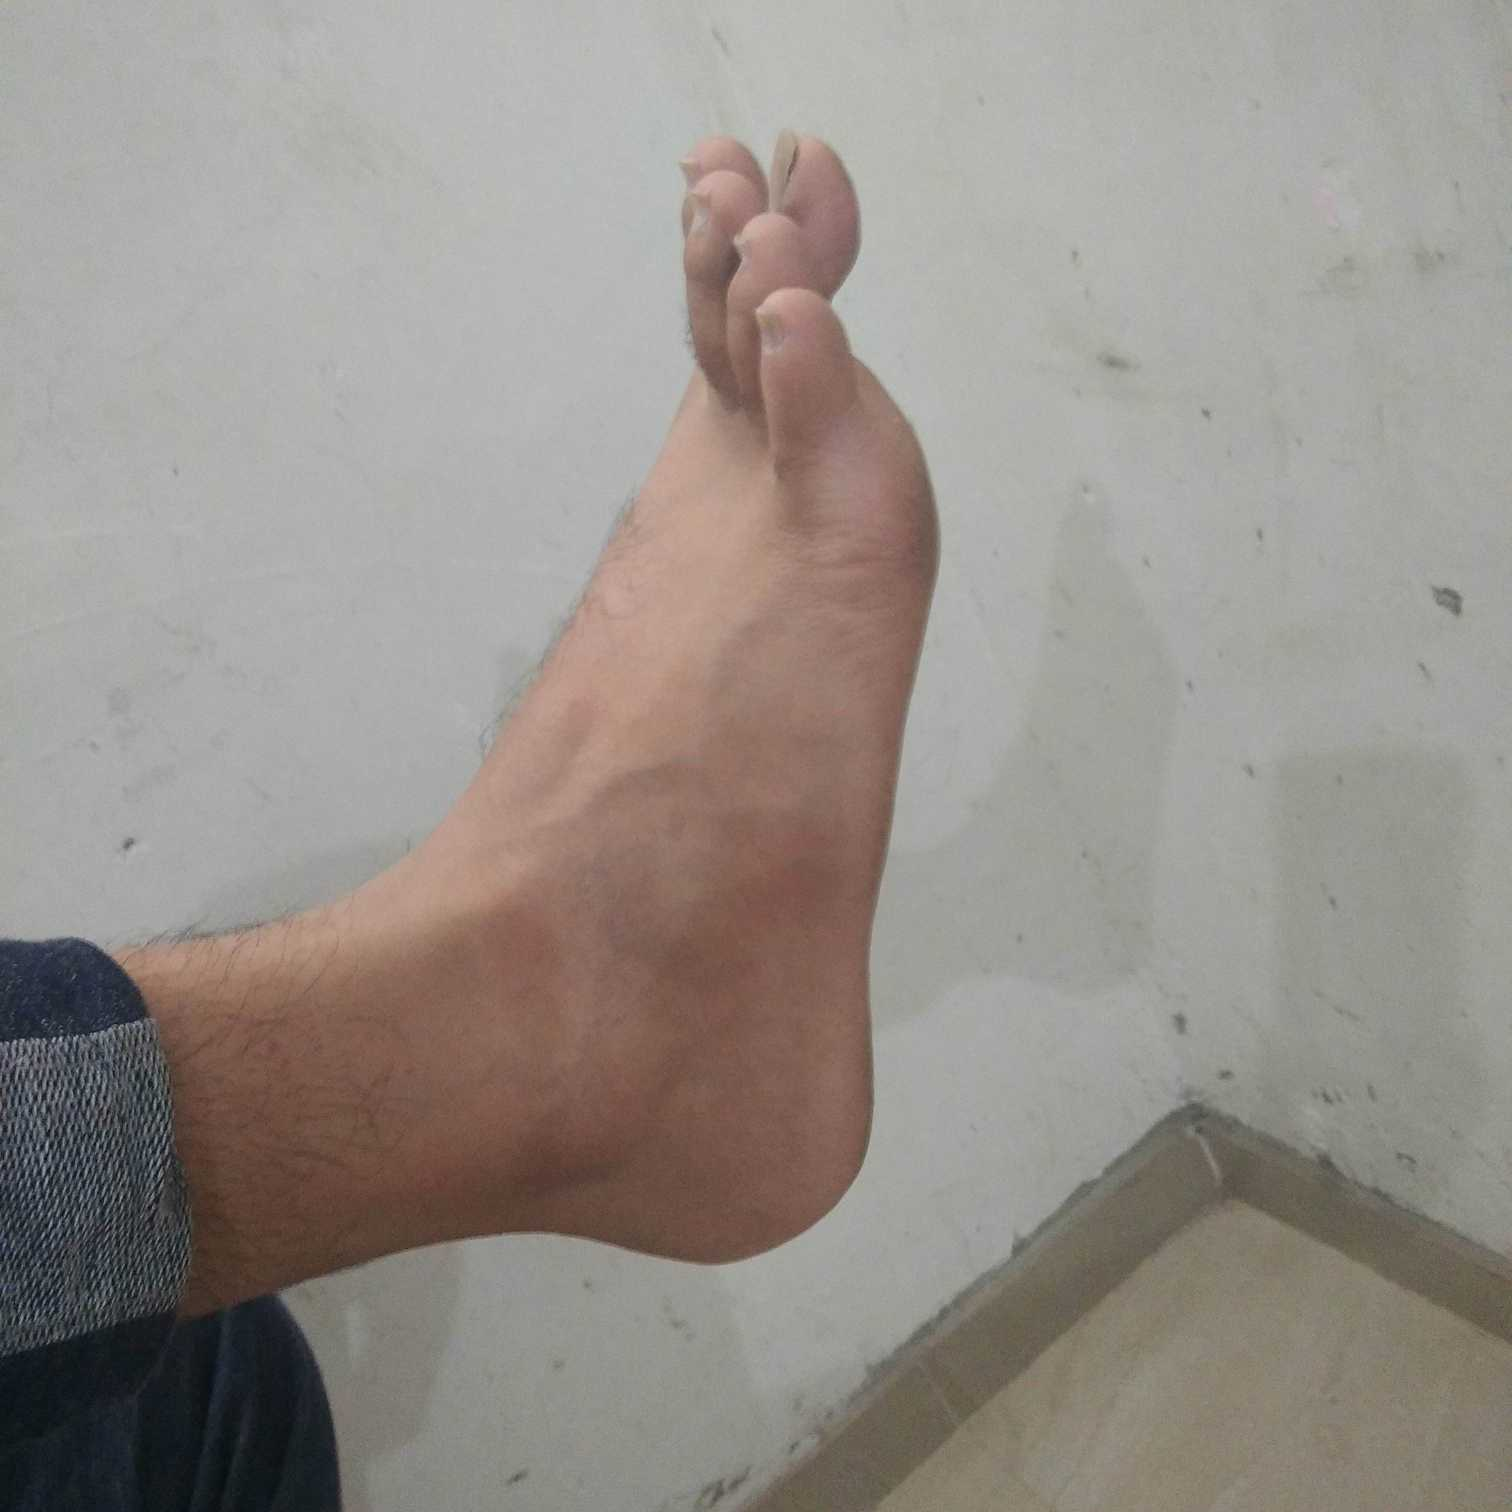foot: (485, 120, 947, 1270)
